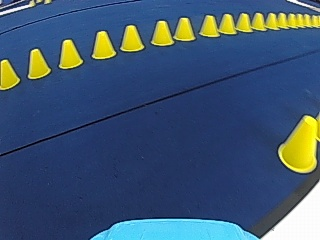cone: (277, 114, 319, 172), (91, 30, 116, 59), (58, 39, 82, 69), (120, 24, 145, 52), (27, 48, 50, 78), (151, 20, 174, 46), (0, 59, 19, 88), (175, 16, 196, 41), (200, 14, 219, 37), (219, 13, 236, 35), (236, 12, 252, 32), (251, 12, 265, 30), (265, 12, 278, 29), (277, 12, 287, 27), (287, 13, 296, 26), (295, 13, 303, 26), (303, 14, 311, 26), (311, 15, 319, 26)
